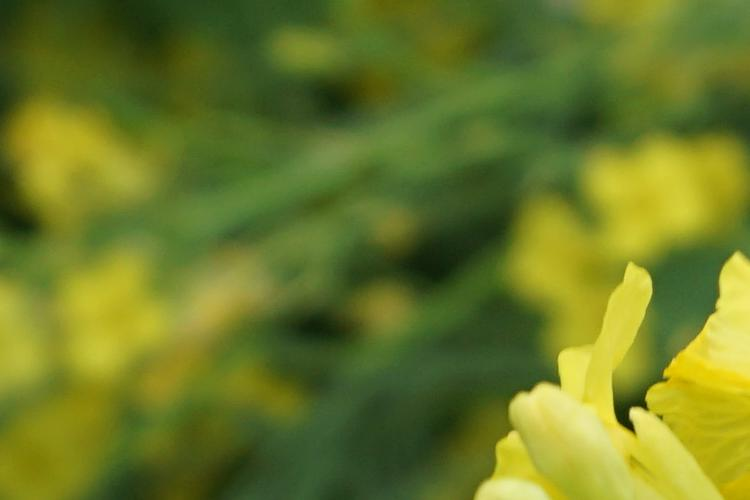yellow: (507, 271, 750, 499)
